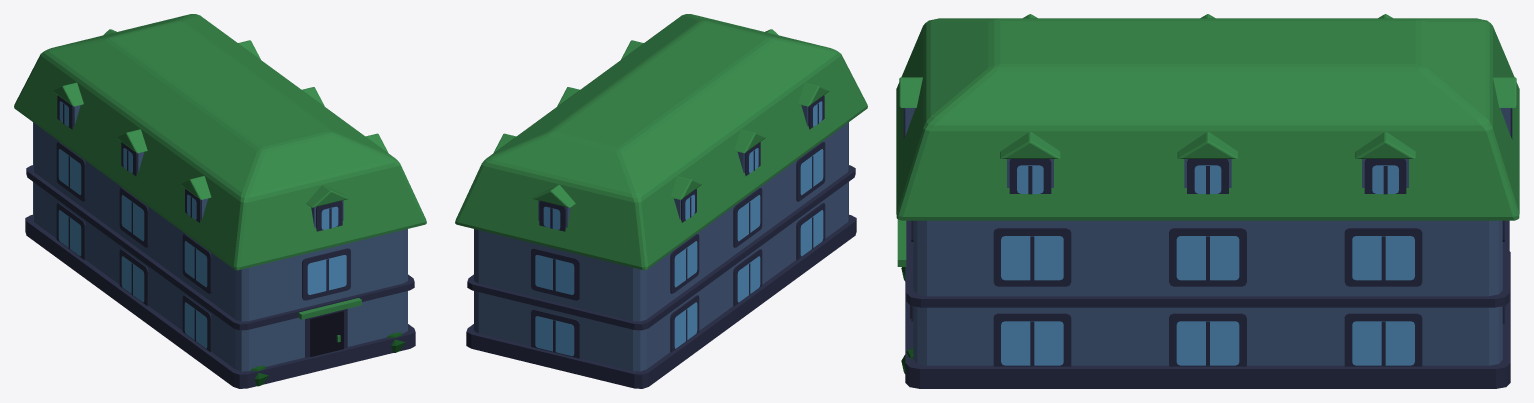
The model's file is house-1x2-2f-mansard-b.glb.
3 views of the same model, side by side, from view 1: azimuth 30°, elevation 25°; view 2: azimuth 150°, elevation 25°; view 3: azimuth 270°, elevation 25° (orthographic). The views are drawn at different scales.
Parts seen in each view (by area): view 1: house-1x2-2f-mansard-b; view 2: house-1x2-2f-mansard-b; view 3: house-1x2-2f-mansard-b.
Boxes of the visible parts, left/top/right/bottom form: house-1x2-2f-mansard-b: left=14, top=14, right=426, bottom=388; house-1x2-2f-mansard-b: left=455, top=14, right=867, bottom=388; house-1x2-2f-mansard-b: left=896, top=14, right=1519, bottom=388.
Size of the model in its own units: 0.9876 by 1 by 1.99.
Materials: 1 (1 with a texture image).
